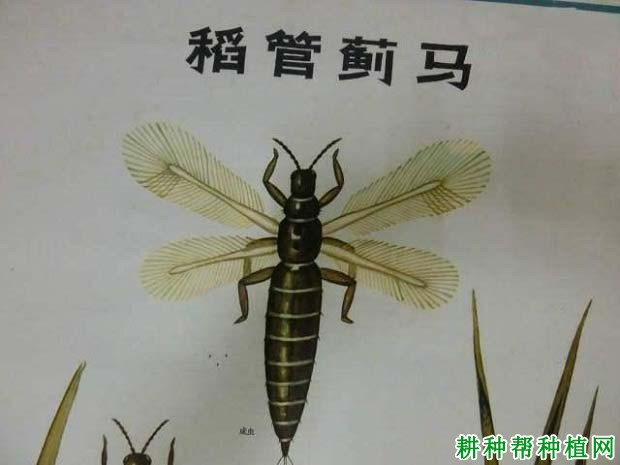Phlaeothripidae: (119, 116, 498, 465)
